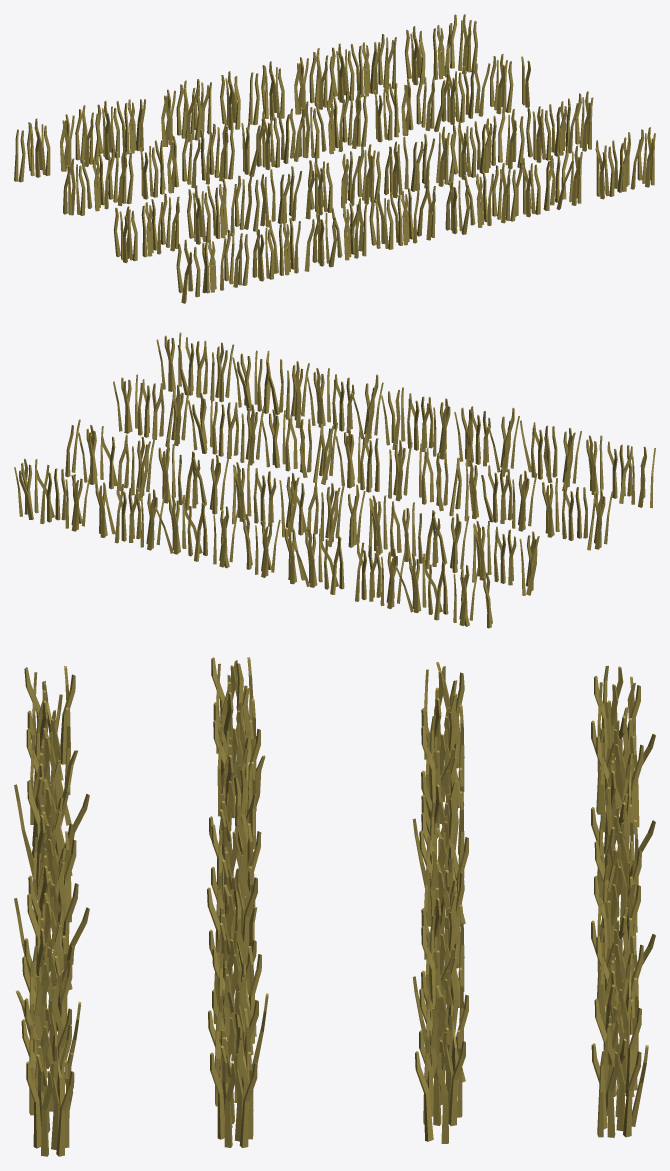
The model's file is Farm_FirstAge_Level2_Wheat.glb.
3 views of the same model, one above another, from view 1: azimuth 30°, elevation 25°; view 2: azimuth 150°, elevation 25°; view 3: azimuth 270°, elevation 25° (orthographic). The views are drawn at different scales.
Parts seen in each view (by area): view 1: Farm_FirstAge_Level2_Wheat; view 2: Farm_FirstAge_Level2_Wheat; view 3: Farm_FirstAge_Level2_Wheat.
Part boxes in pixels (bbox=[...]): Farm_FirstAge_Level2_Wheat: bbox=[14, 14, 655, 303]; Farm_FirstAge_Level2_Wheat: bbox=[14, 332, 655, 628]; Farm_FirstAge_Level2_Wheat: bbox=[14, 657, 655, 1156].
Bounding box in the file's own units: 1.68 × 0.1882 × 1.1.
